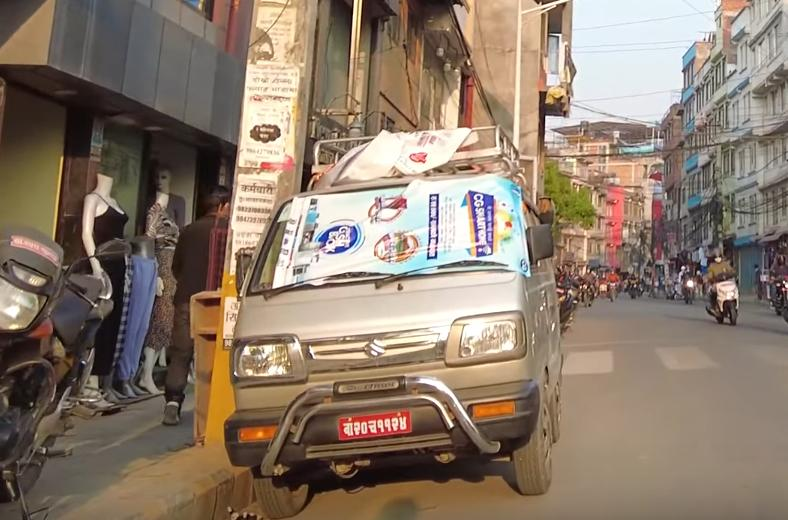scooter: (700, 263, 745, 328)
van: (214, 118, 588, 516)
